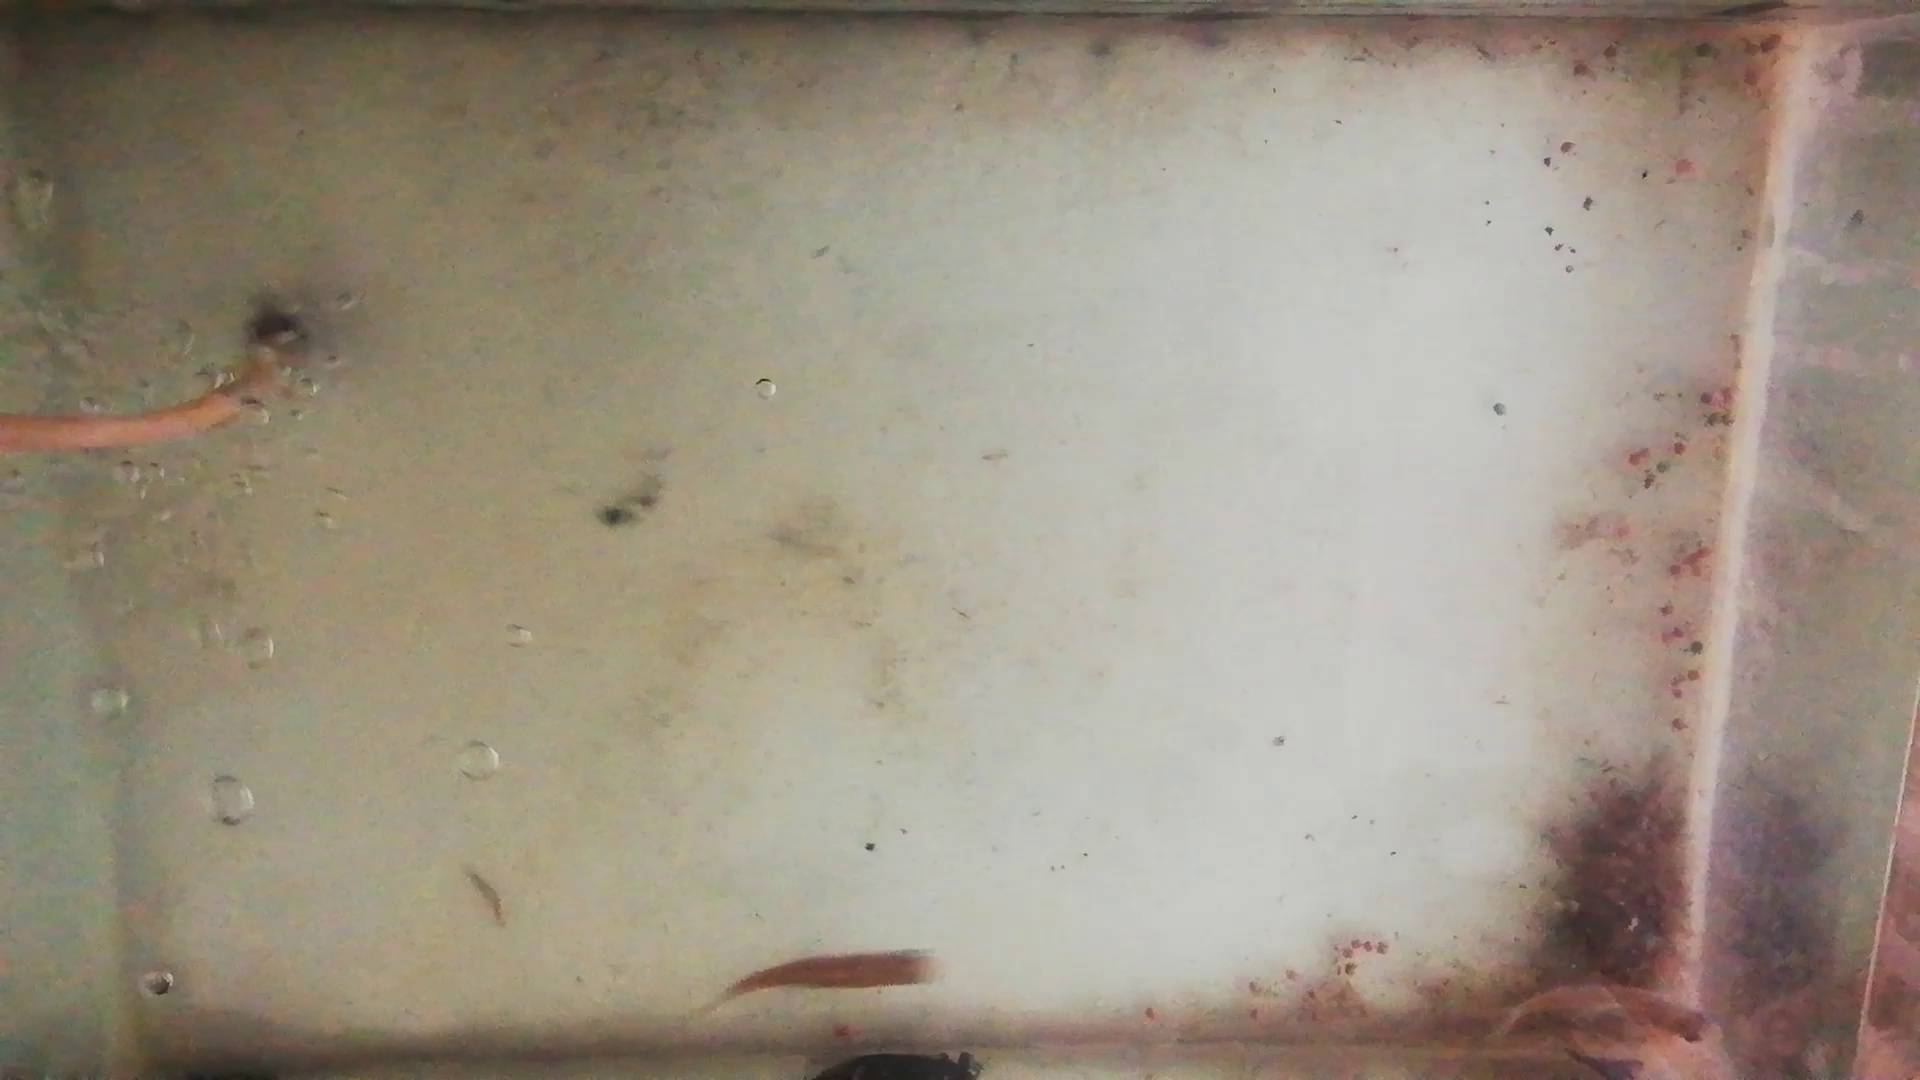fish: (1505, 982, 1722, 1047), (724, 952, 948, 993)
